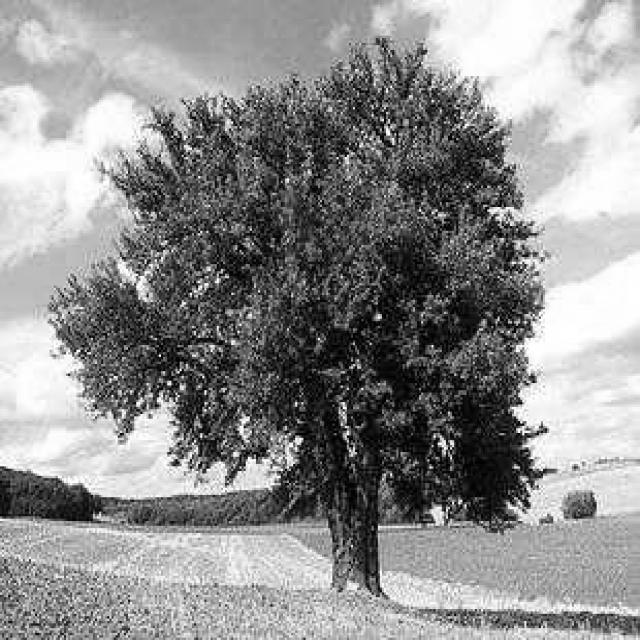Tree: (50, 40, 543, 593)
